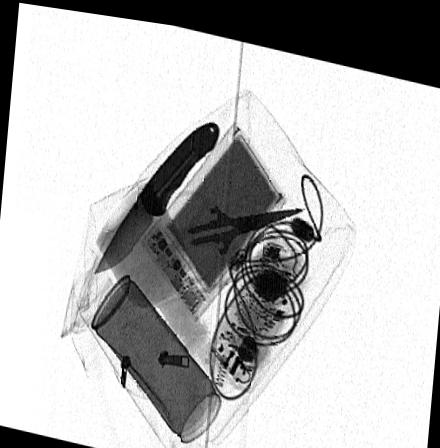Knife: (91, 115, 218, 270)
Powerbank: (140, 115, 287, 314)
Scissors: (166, 182, 307, 281)
